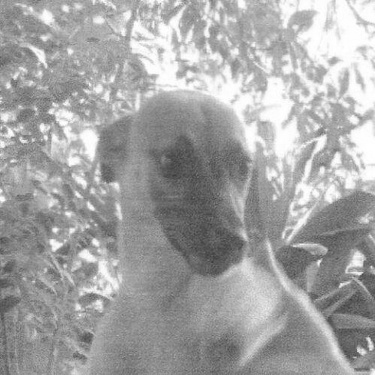dog: (84, 79, 361, 372)
